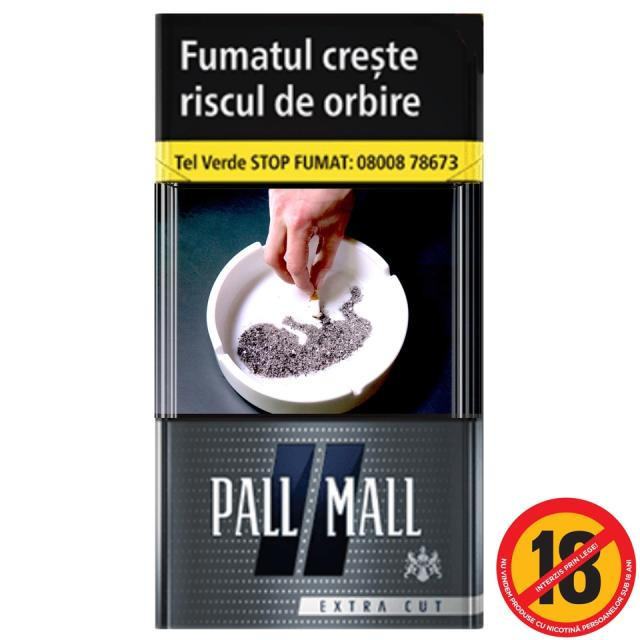pallmall: (143, 12, 489, 630)
